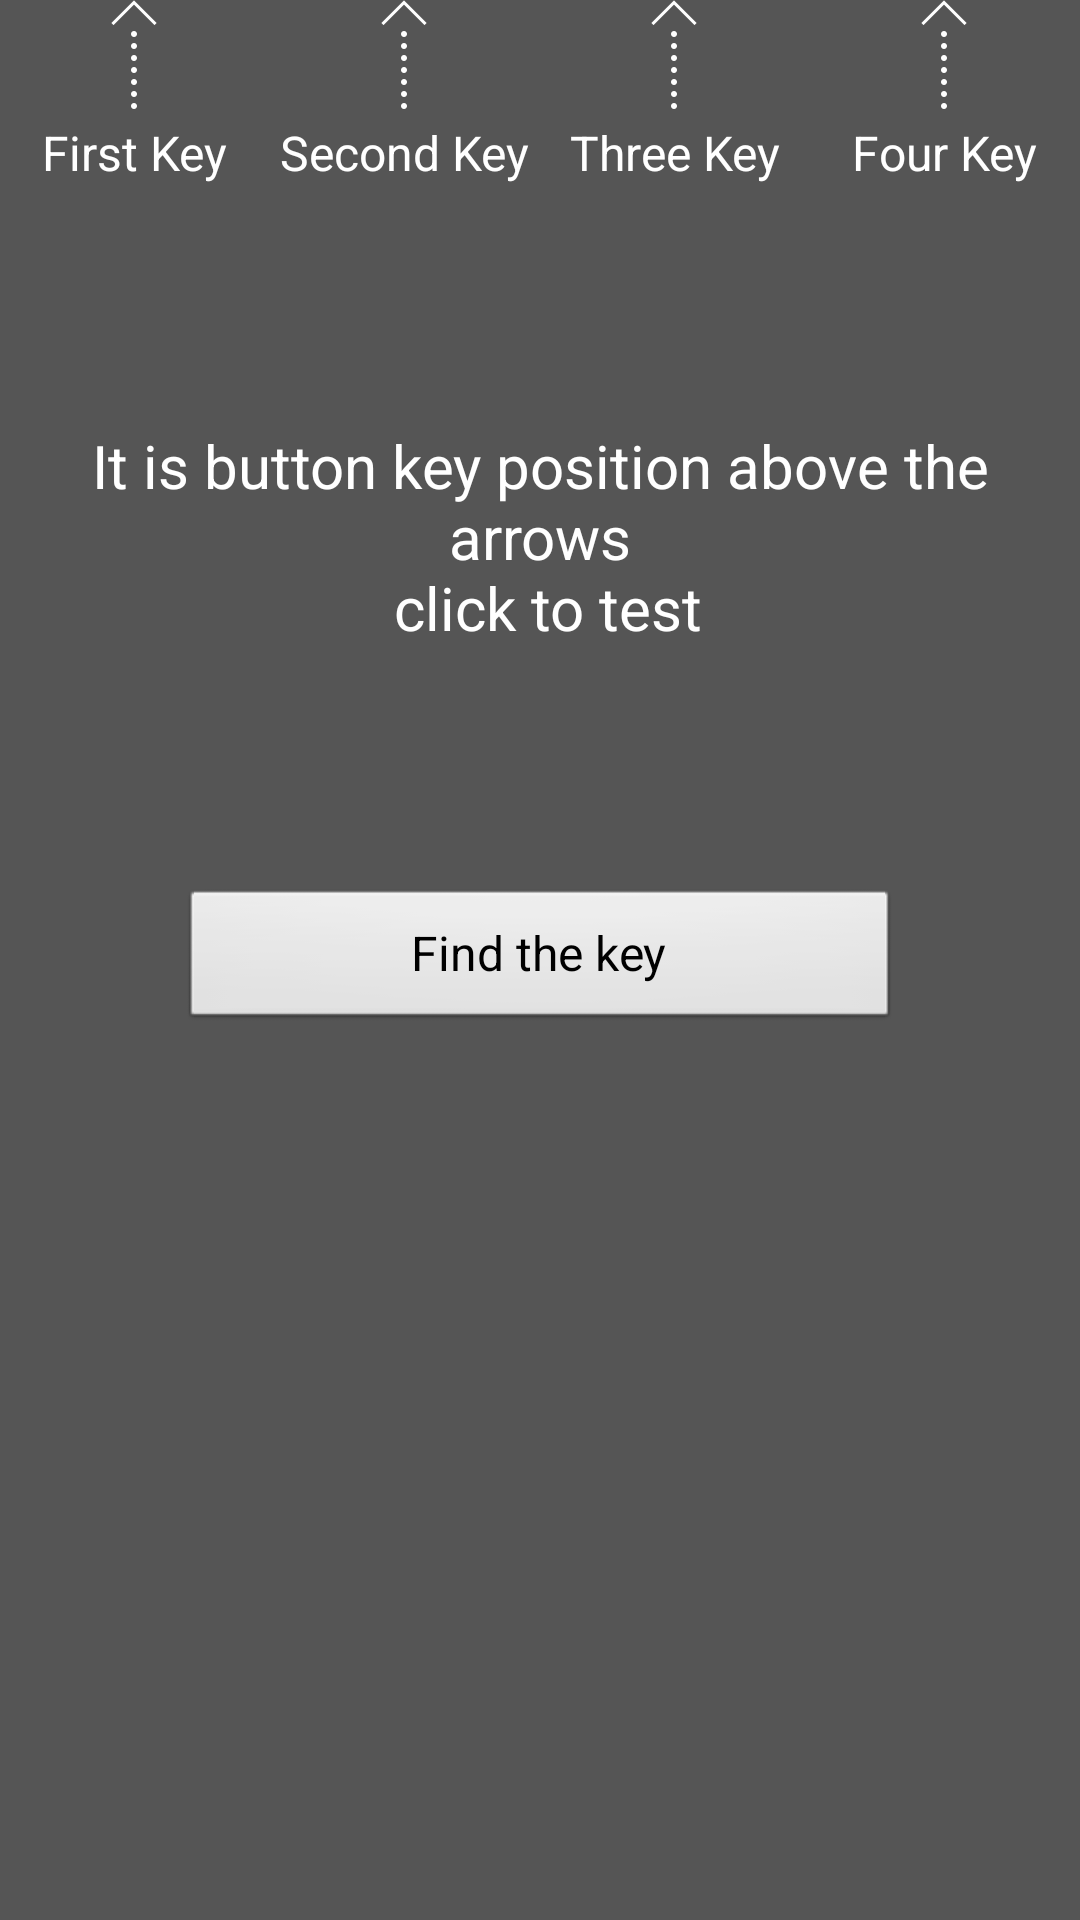

Icon bounding boxes for this 1080x1920 phone screenshot, format (x1, y1, x2, y2):
smartkey arrows vertical: (111, 0, 157, 109), (381, 0, 427, 109), (651, 0, 697, 109), (921, 0, 967, 109)
